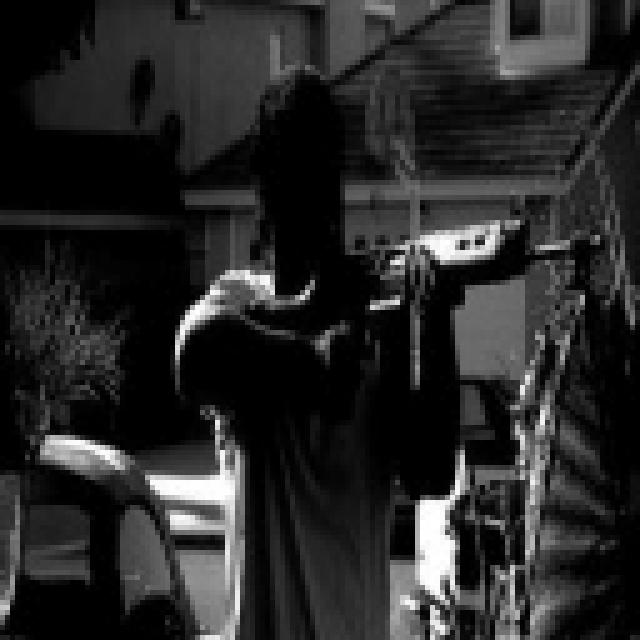Rifle: (267, 204, 614, 386)
